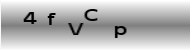4: (23, 9, 37, 25)
C: (84, 7, 98, 22)
V: (67, 21, 83, 35)
f: (46, 11, 56, 25)
p: (113, 24, 127, 38)
